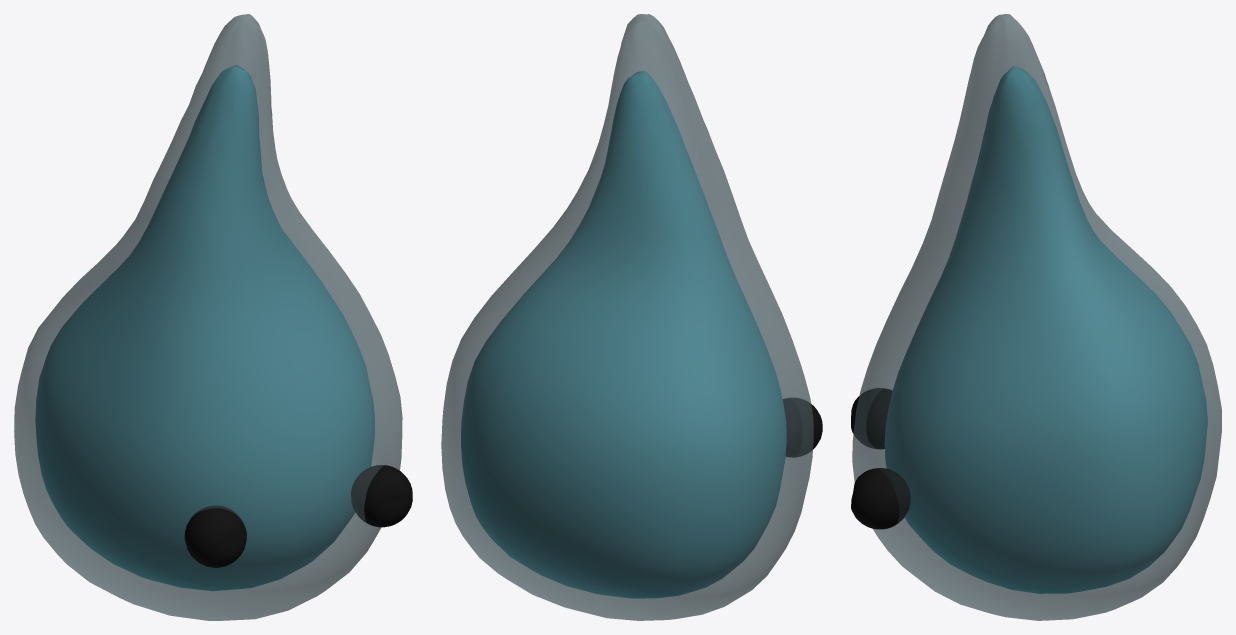
The model's file is Water droplet.fbx.
3 renders of one model, left to right at view 1: azimuth 30°, elevation 25°; view 2: azimuth 150°, elevation 25°; view 3: azimuth 270°, elevation 25°, orthographic. The views are drawn at different scales.
Parts seen in each view (by area): view 1: WaterBody1L, WaterBody2L, WaterEyesL; view 2: WaterBody1L, WaterBody2L, WaterEyesL; view 3: WaterBody1L, WaterBody2L, WaterEyesL.
Boxes of the visible parts, x1=… form: WaterBody1L: x1=14, y1=14, x2=402, y2=620; WaterBody2L: x1=35, y1=65, x2=374, y2=590; WaterEyesL: x1=184, y1=465, x2=412, y2=567; WaterBody1L: x1=441, y1=14, x2=813, y2=620; WaterBody2L: x1=461, y1=71, x2=786, y2=598; WaterEyesL: x1=783, y1=398, x2=822, y2=457; WaterBody1L: x1=852, y1=14, x2=1221, y2=620; WaterBody2L: x1=884, y1=66, x2=1207, y2=593; WaterEyesL: x1=851, y1=388, x2=910, y2=529.
Size of the model in its own units: 0.7728 by 1.31 by 0.7549.
